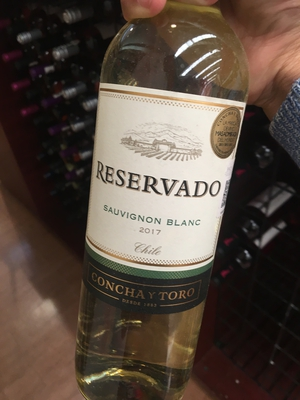reservado sauvignon blanc: (84, 20, 246, 400)
